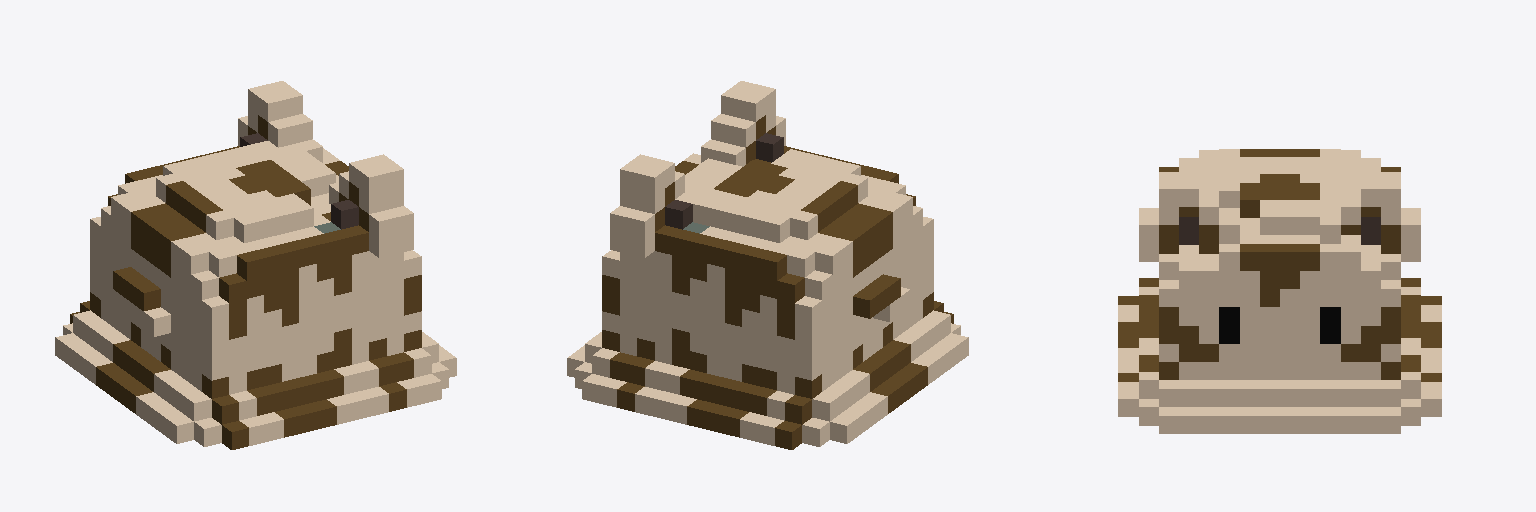
3 renders of one model, left to right at view 1: azimuth 30°, elevation 25°; view 2: azimuth 150°, elevation 25°; view 3: azimuth 270°, elevation 25°, orthographic.
Parts seen in each view (by area): view 1: object 1; view 2: object 1; view 3: object 1.
Part boxes in pixels (x1,y1,x2,y2): object 1: (55, 81, 456, 449); object 1: (567, 81, 968, 449); object 1: (1118, 149, 1441, 433).
Size of the model in its own units: 1.6 by 1.2 by 1.6.
Materials: 1 (1 with a texture image).